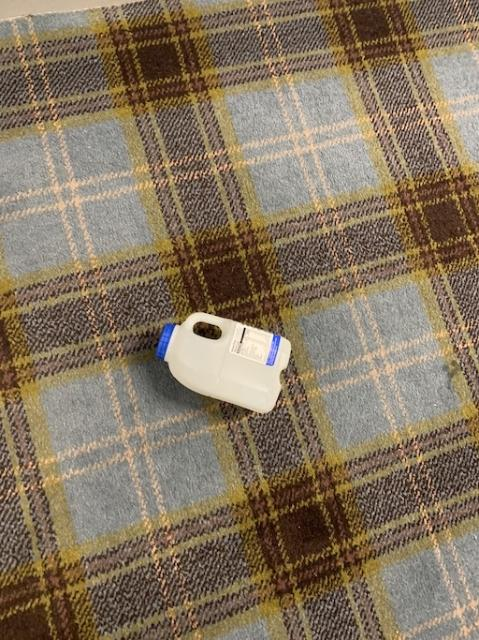plastic: (156, 312, 290, 411)
